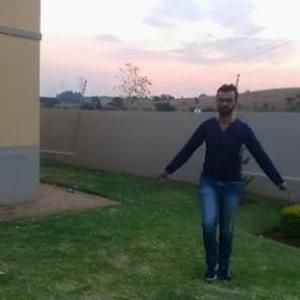land: (166, 84, 294, 282)
